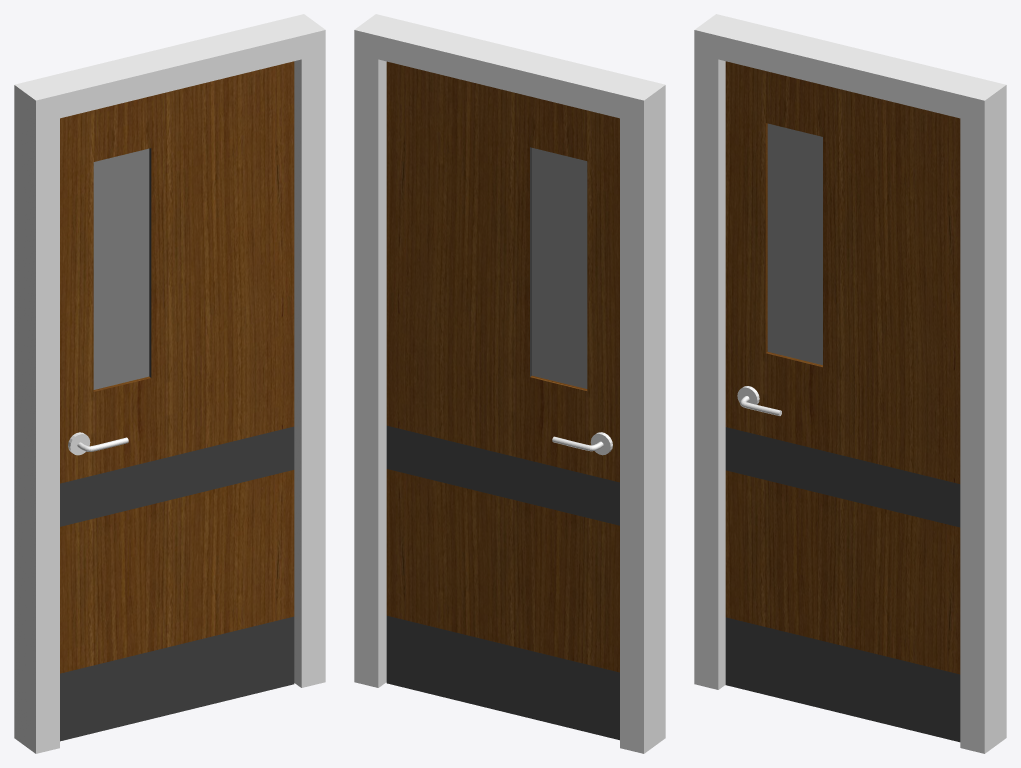
File: Door 2.FBX
3 views of the same model, side by side, from view 1: azimuth 30°, elevation 25°; view 2: azimuth 150°, elevation 25°; view 3: azimuth 330°, elevation 25° (orthographic).
Parts seen in each view (by area): view 1: Door, door frame; view 2: Door, door frame; view 3: Door, door frame.
Part boxes in pixels (<box>): Door: <box>60,61,294,741</box>; door frame: <box>14,14,325,753</box>; Door: <box>386,61,619,740</box>; door frame: <box>354,14,665,753</box>; Door: <box>725,61,960,742</box>; door frame: <box>694,14,1006,753</box>.
Size of the model in its own units: 96.56 by 208 by 16.82.
Materials: 3 (1 with a texture image).
